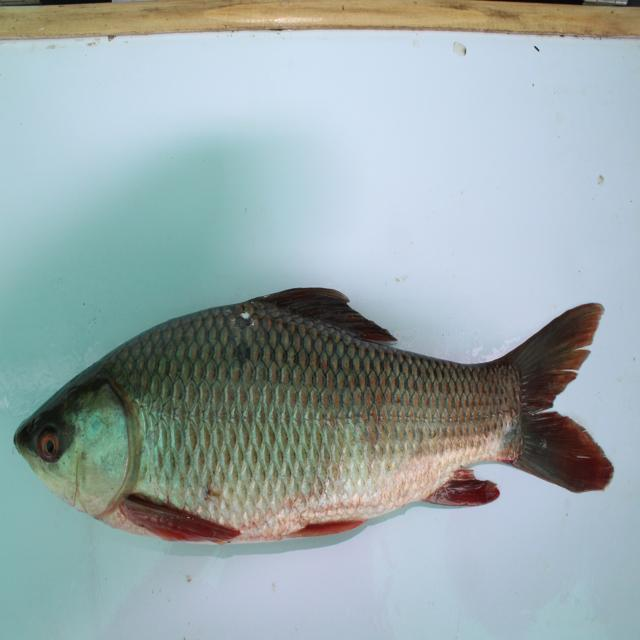Rohu: (27, 284, 620, 555)
